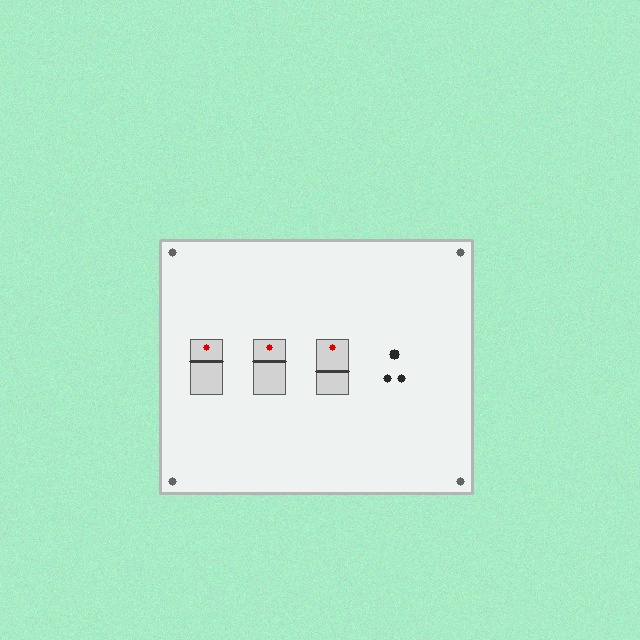switchboard: (160, 240, 472, 493)
